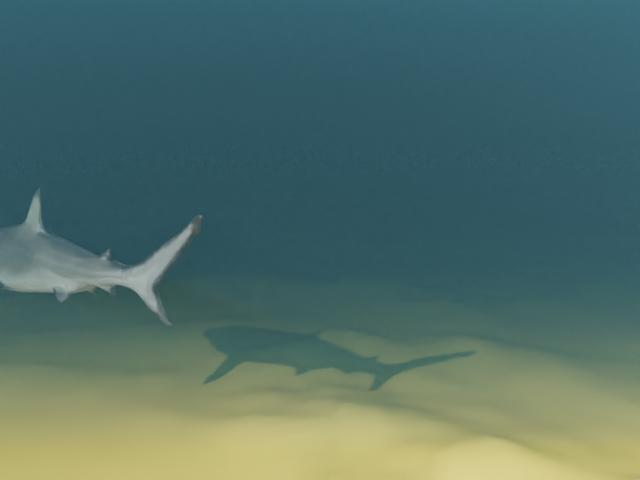Carribean Shark.001: (0, 188, 202, 326)
